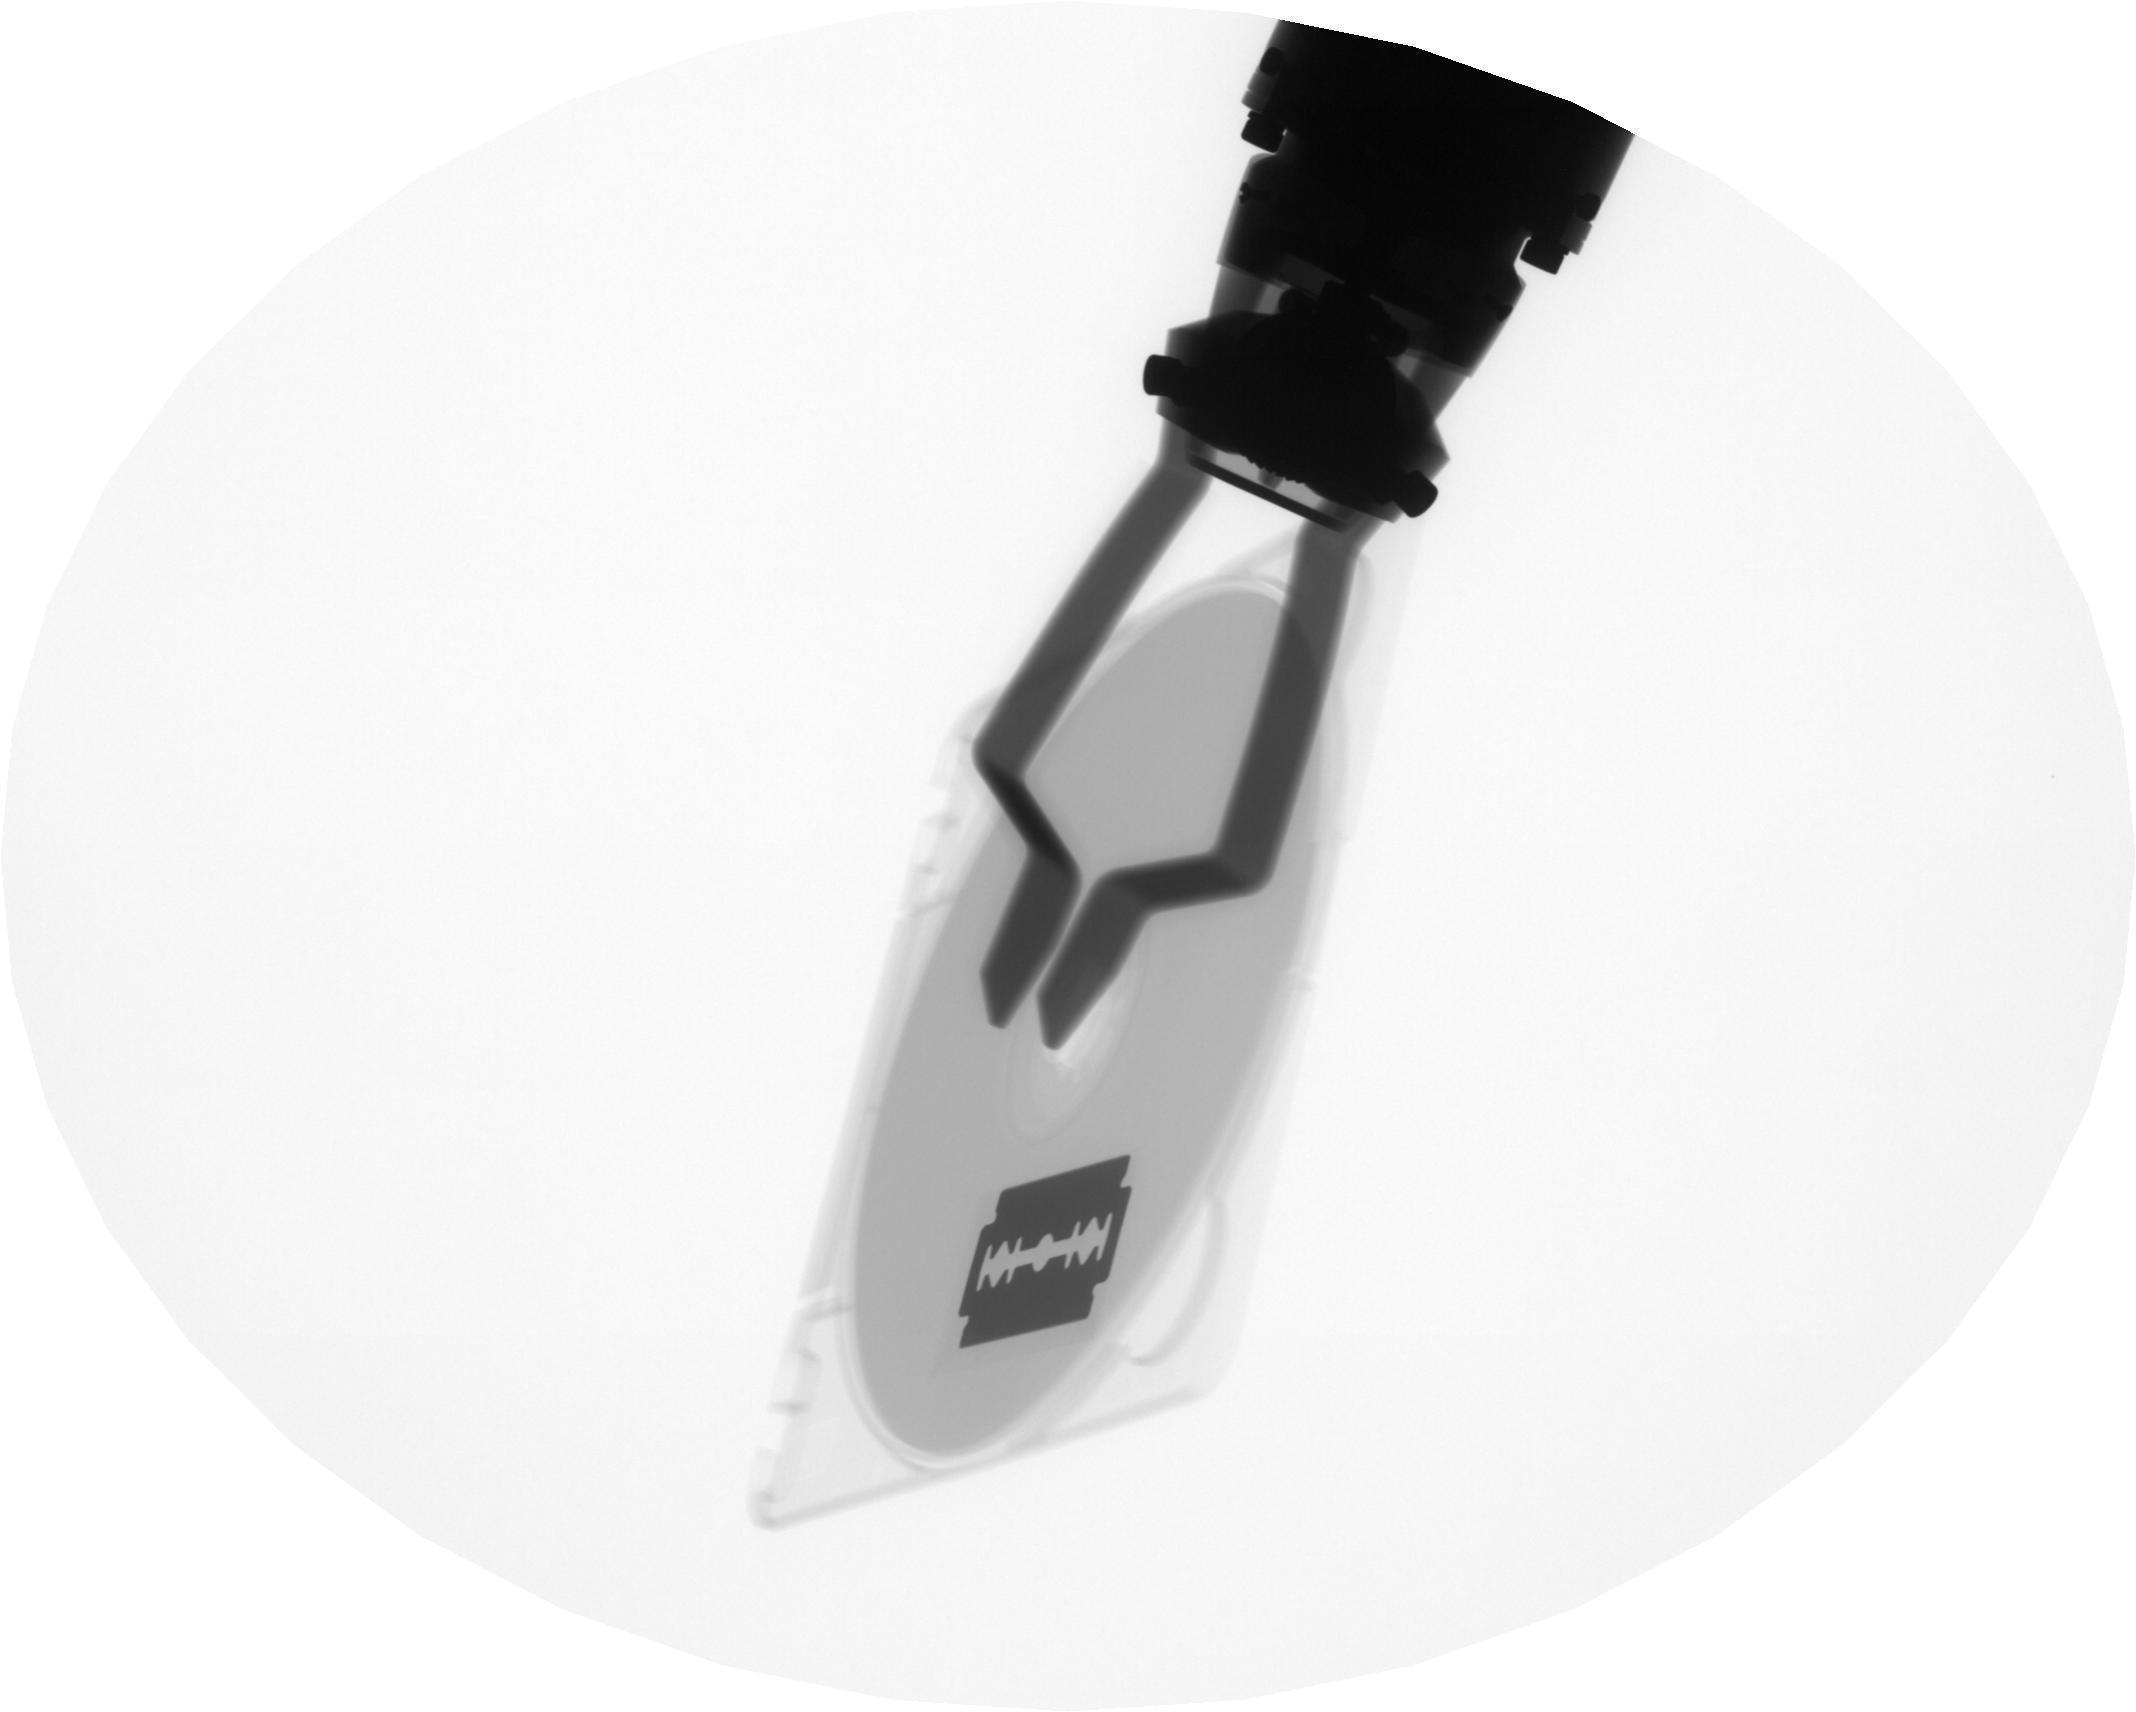RazorBlade: (941, 1148, 1160, 1356)
